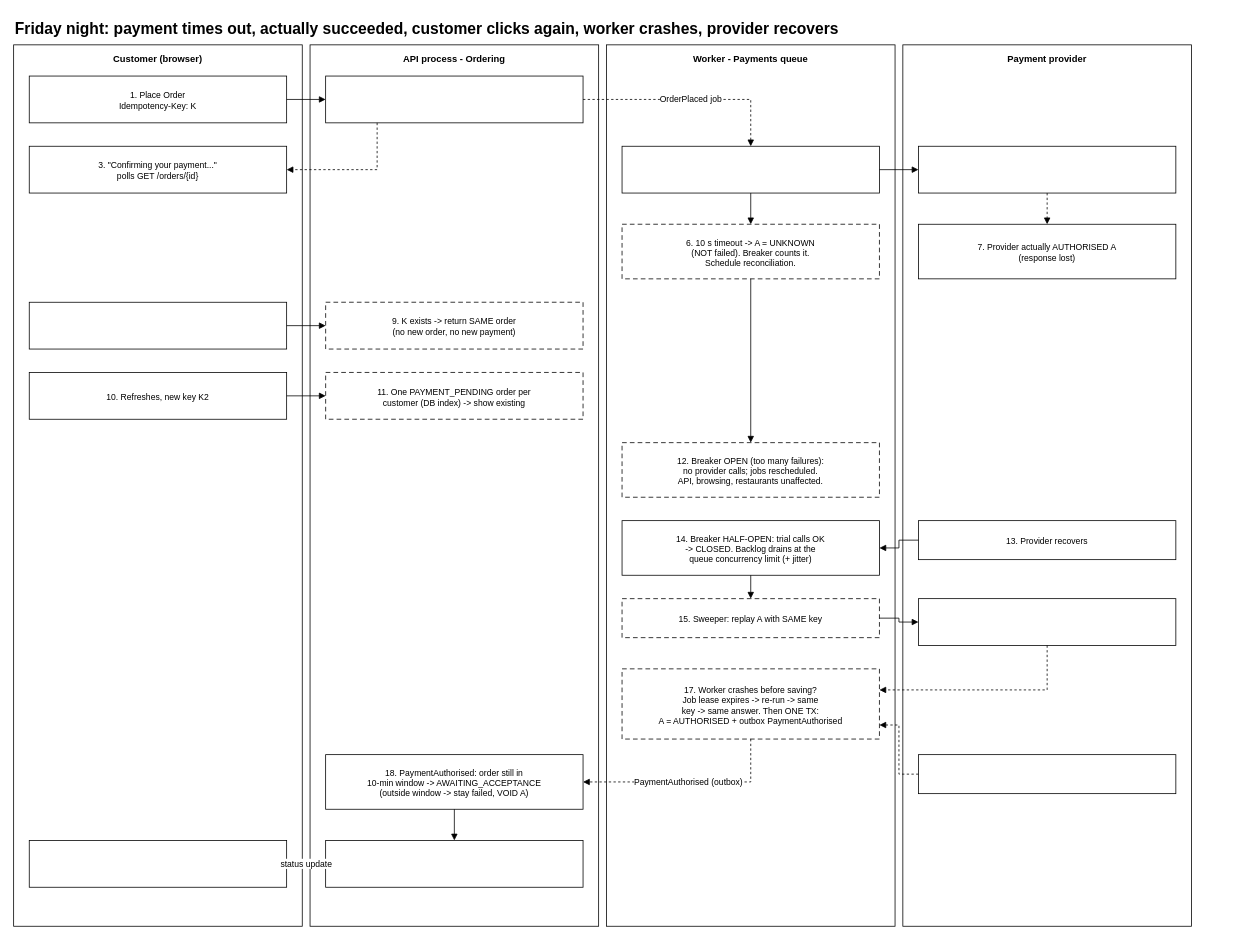
Some shapes in this 1236 by 940 pixel diagram are drawn without their labels. Each missing label, with the box of its shape:
16. Same key -> returns original "authorised". No second charge.: (918, 598, 1176, 645)
19. "Waiting for the restaurant" (or "hold released, not charged"): (28, 840, 287, 887)
2. TX: place_order_requests(K), order PAYMENT_PENDING, outbox OrderPlaced. 202: (325, 75, 583, 123)
20. Restaurant sees order (poll + push) Next day: settlement check matches: (325, 840, 583, 887)
4. TX: attempt A = REQUESTED -> IN_FLIGHT log "request sent": (621, 145, 879, 193)
5. authorise, Idempotency-Key = A ... provider struggling ...: (918, 145, 1176, 193)
8. Customer clicks again (same K): (28, 301, 287, 349)
Also: webhook for A arrives -> inbox dedupes it: (918, 754, 1176, 794)
